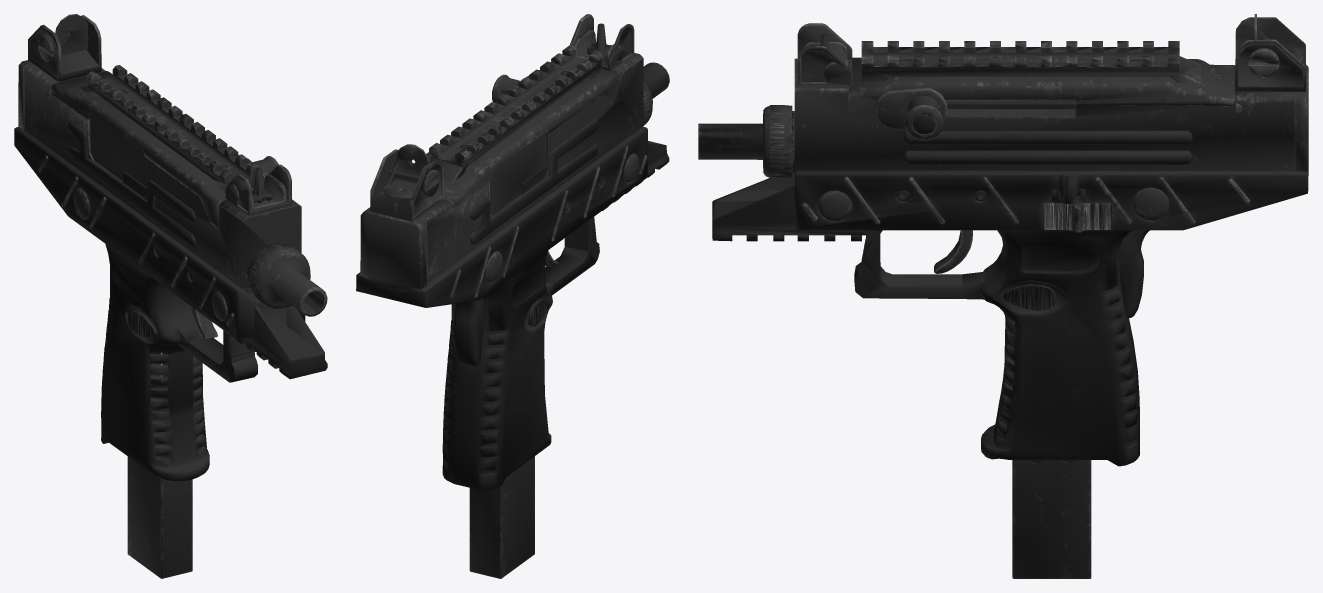
Rendered from smg2.glb.
3 renders of one model, left to right at view 1: azimuth 30°, elevation 25°; view 2: azimuth 150°, elevation 25°; view 3: azimuth 270°, elevation 25°, orthographic. The views are drawn at different scales.
Parts seen in each view (by area): view 1: body; view 2: body; view 3: body.
Boxes of the visible parts, left/top/right/bottom form: body: left=14, top=14, right=327, bottom=578; body: left=356, top=14, right=669, bottom=578; body: left=698, top=14, right=1308, bottom=578.
Bounding box in the file's own units: 0.0707 × 0.331 × 0.33.
Materials: 1 (1 with a texture image).
